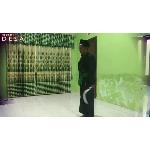Celurit: (80, 84, 99, 106)
